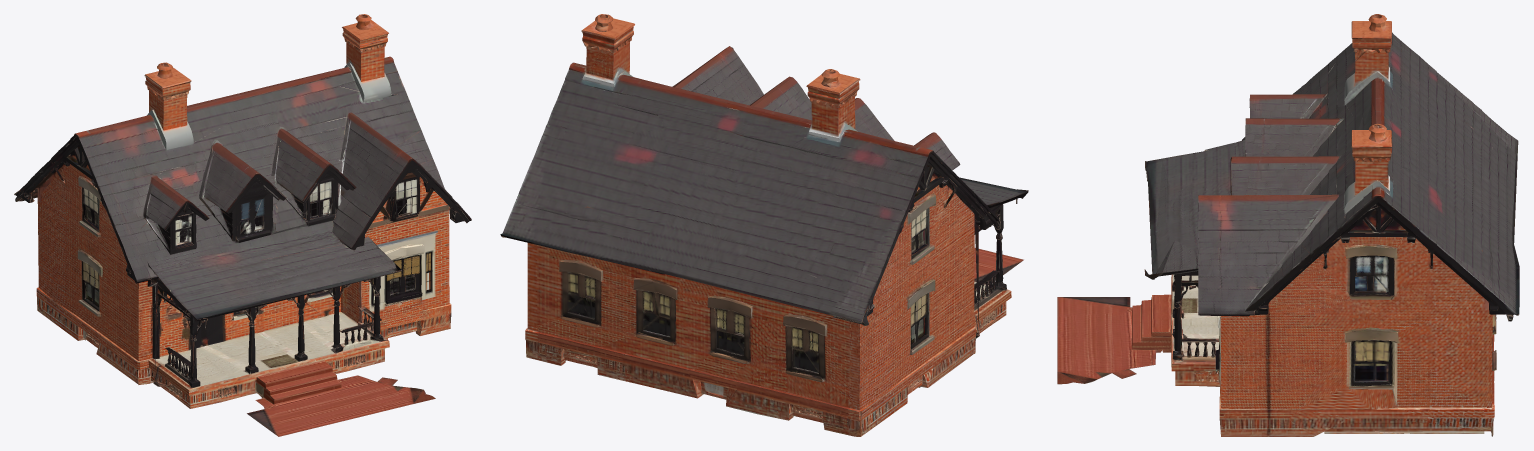
The model's file is suburb-cottage.glb.
3 views of the same model, side by side, from view 1: azimuth 30°, elevation 25°; view 2: azimuth 150°, elevation 25°; view 3: azimuth 270°, elevation 25° (orthographic). The views are drawn at different scales.
Size of the model in its own units: 1.73 by 1.37 by 1.9.
Materials: 1 (1 with a texture image).
